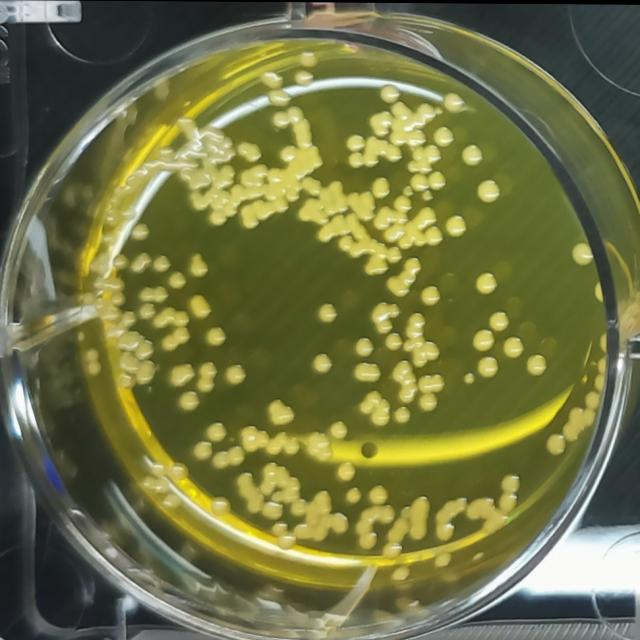StaphyloPositive: (401, 309, 442, 369), (188, 185, 240, 227), (398, 206, 443, 249), (272, 104, 314, 150), (349, 134, 401, 168), (276, 144, 326, 178), (385, 254, 423, 298), (359, 389, 392, 429), (418, 369, 448, 412), (392, 359, 418, 405), (264, 429, 304, 457), (118, 329, 156, 357), (370, 301, 401, 335), (194, 358, 220, 396), (315, 214, 349, 243), (347, 190, 378, 221), (240, 201, 272, 231), (268, 396, 298, 427), (240, 424, 270, 455), (308, 430, 336, 462), (150, 306, 190, 328), (298, 196, 327, 226), (353, 359, 386, 385), (472, 267, 502, 295), (458, 138, 486, 168), (168, 361, 198, 389), (470, 325, 498, 353), (500, 333, 528, 361), (474, 176, 502, 204), (188, 291, 214, 321), (188, 247, 212, 279), (524, 351, 550, 380), (570, 238, 596, 266), (442, 211, 468, 239), (162, 328, 190, 354), (234, 140, 264, 164), (476, 353, 502, 379), (352, 334, 378, 359), (224, 359, 247, 387), (134, 357, 156, 386), (488, 306, 512, 332), (430, 123, 454, 149), (310, 352, 336, 376), (327, 419, 353, 443), (334, 458, 360, 482), (368, 482, 392, 508), (370, 173, 392, 201), (206, 324, 230, 349), (209, 494, 233, 518), (177, 391, 202, 414), (317, 302, 341, 325), (190, 439, 213, 463), (206, 419, 229, 443), (420, 282, 442, 306), (130, 251, 152, 275), (138, 285, 168, 302), (128, 219, 150, 242), (342, 484, 362, 506), (167, 270, 189, 290), (384, 332, 404, 353), (153, 253, 173, 273), (394, 405, 413, 425), (139, 303, 157, 320), (464, 371, 476, 385)
